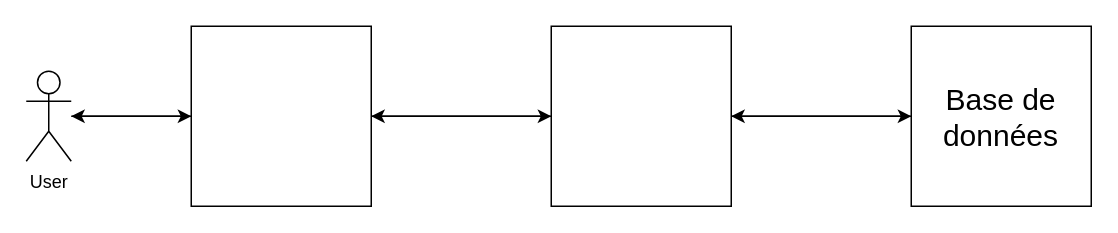
This 1118x233 diagram has some shape labels left out. Here are the shapes that lost their labels. From the top down, the box of each, then its label:
(190, 25, 371, 206): Front-end
(550, 25, 731, 206): Backend (API)
